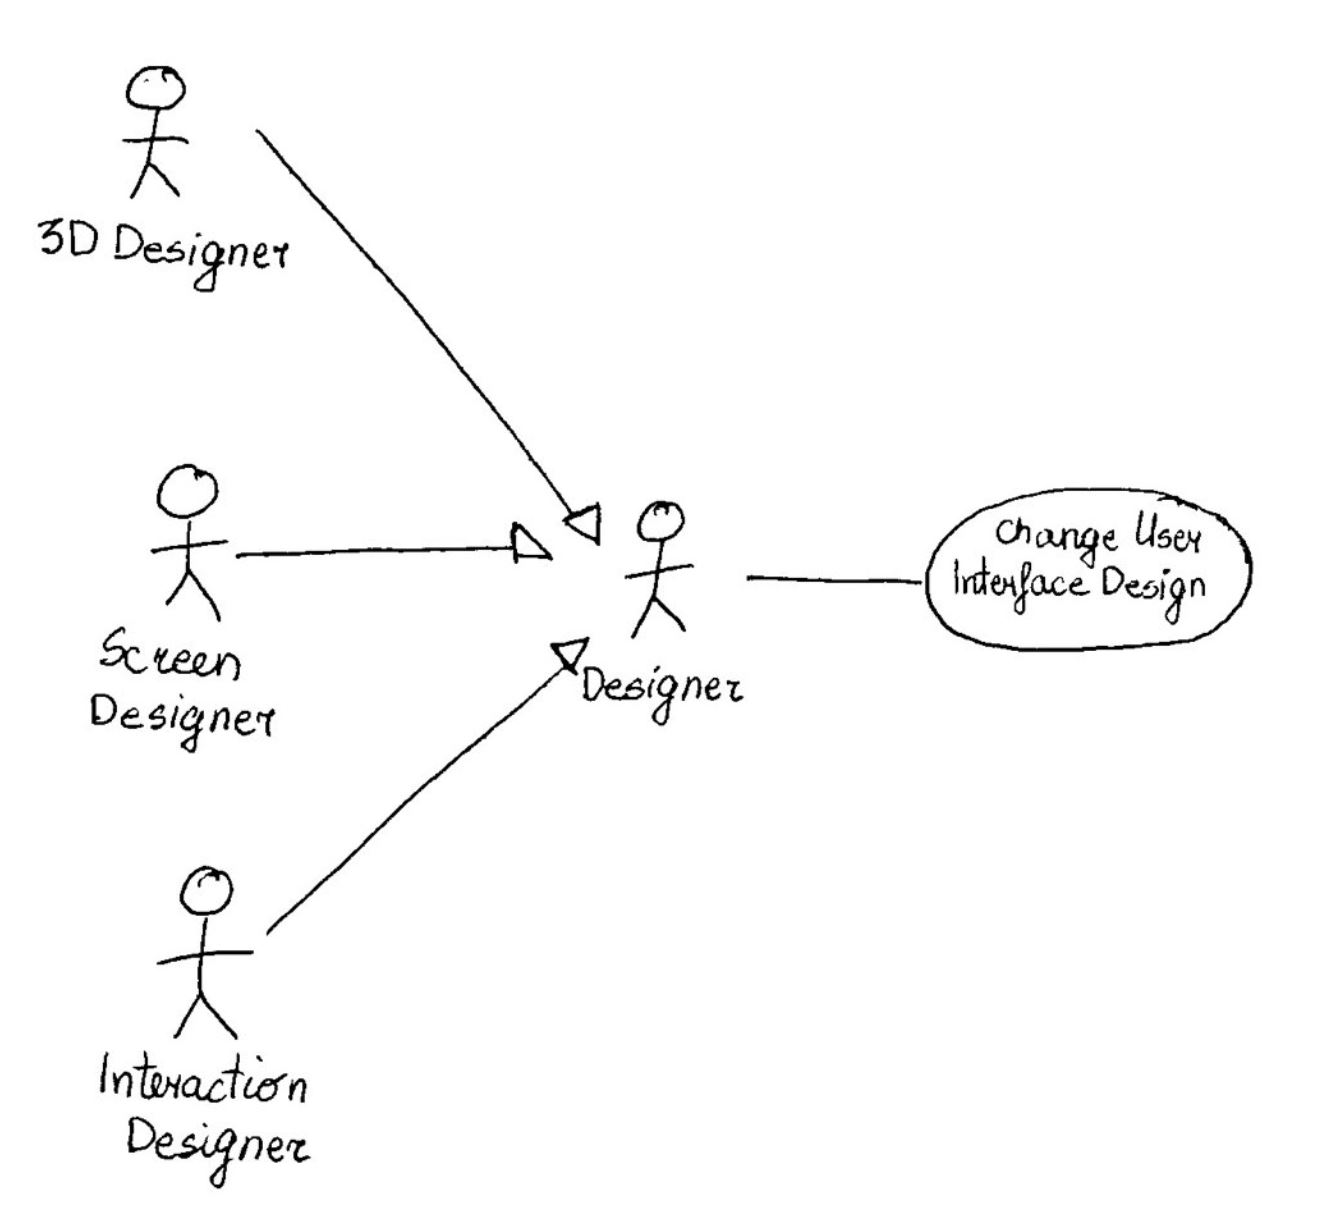actor: (159, 861, 253, 1051), (146, 463, 230, 628), (114, 61, 200, 206), (620, 499, 699, 642)
association: (743, 552, 923, 604)
generalization: (254, 118, 604, 548), (267, 628, 595, 940), (242, 521, 556, 577)
text: (101, 1048, 334, 1190), (951, 509, 1214, 625), (75, 623, 294, 754), (30, 217, 302, 295), (579, 662, 755, 721)
use_case: (925, 485, 1254, 654)
